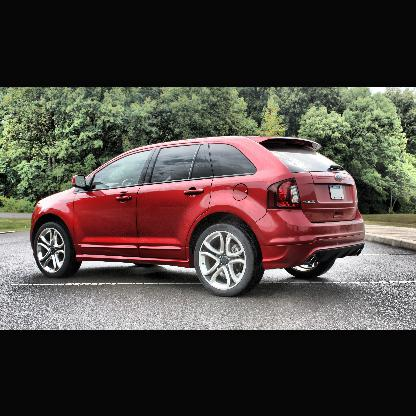Ford Edge SUV 2012: (30, 135, 367, 298)
